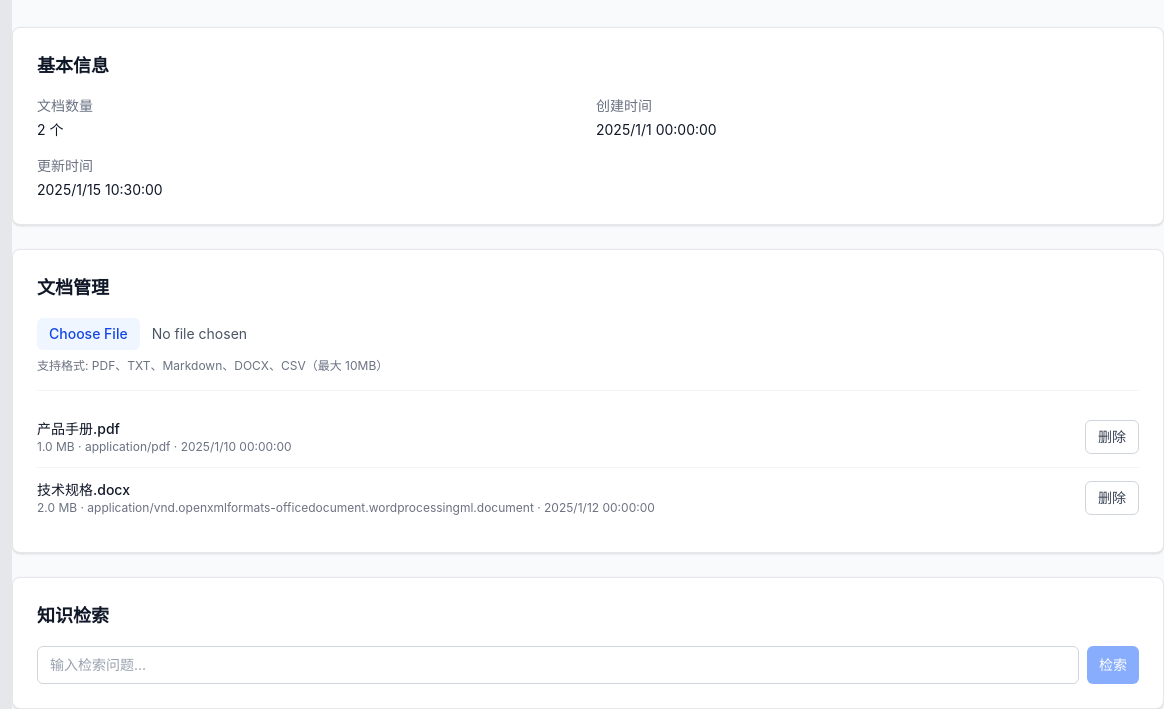
Test case: KnowledgeDetail › 输入检索内容后提交按钮应可用
(page scrolled)
In the field labelled "检索问题": (558, 665) [37, 646, 1079, 684], type "如何使用产品"
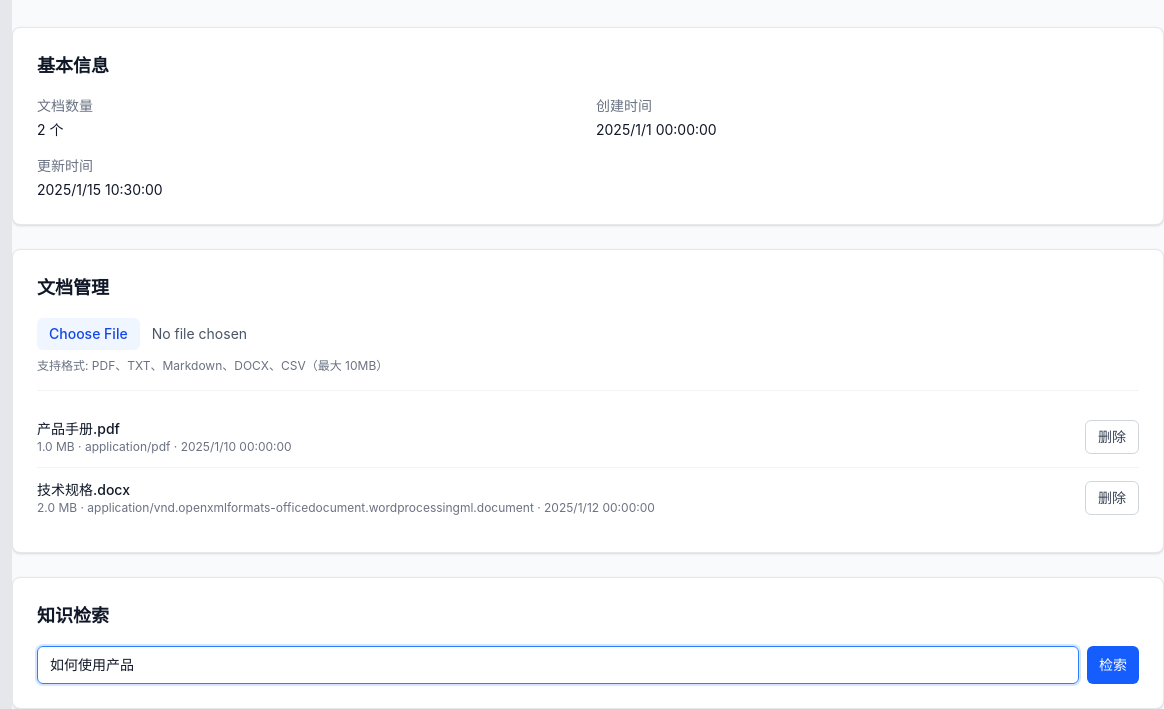
Expected: the button "检索" is enabled, [1087, 646, 1139, 684]
